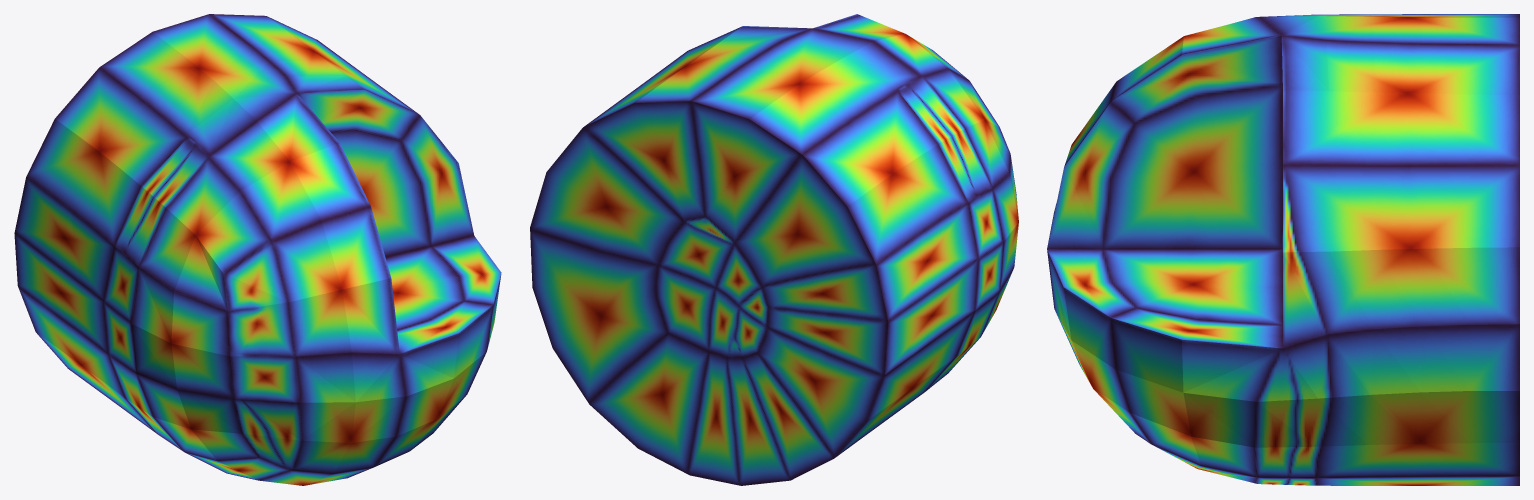
File: gen0.glb
3 renders of one model, left to right at view 1: azimuth 30°, elevation 25°; view 2: azimuth 150°, elevation 25°; view 3: azimuth 270°, elevation 25°, orthographic. The views are drawn at different scales.
Parts seen in each view (by area): view 1: Node; view 2: Node; view 3: Node.
Boxes of the visible parts, x1,y1,x2,y2 form: Node: (14,14,501,485); Node: (530,14,1018,485); Node: (1047,14,1519,485).
Size of the model in its own units: 9.98 by 9.96 by 9.98.
Materials: 1 (1 with a texture image).
